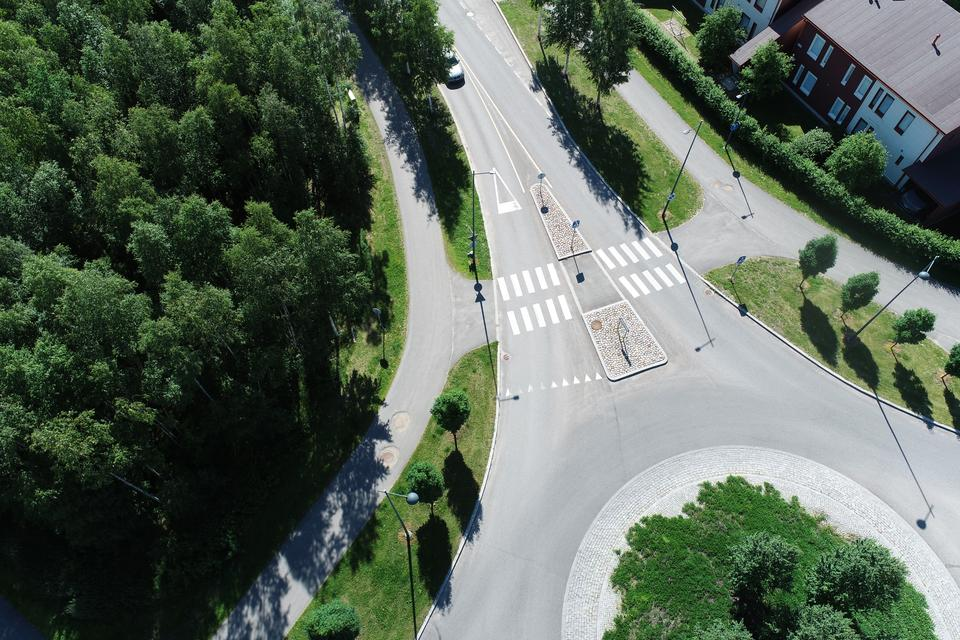intersection: (390, 201, 815, 345)
roundabout: (399, 391, 960, 640)
